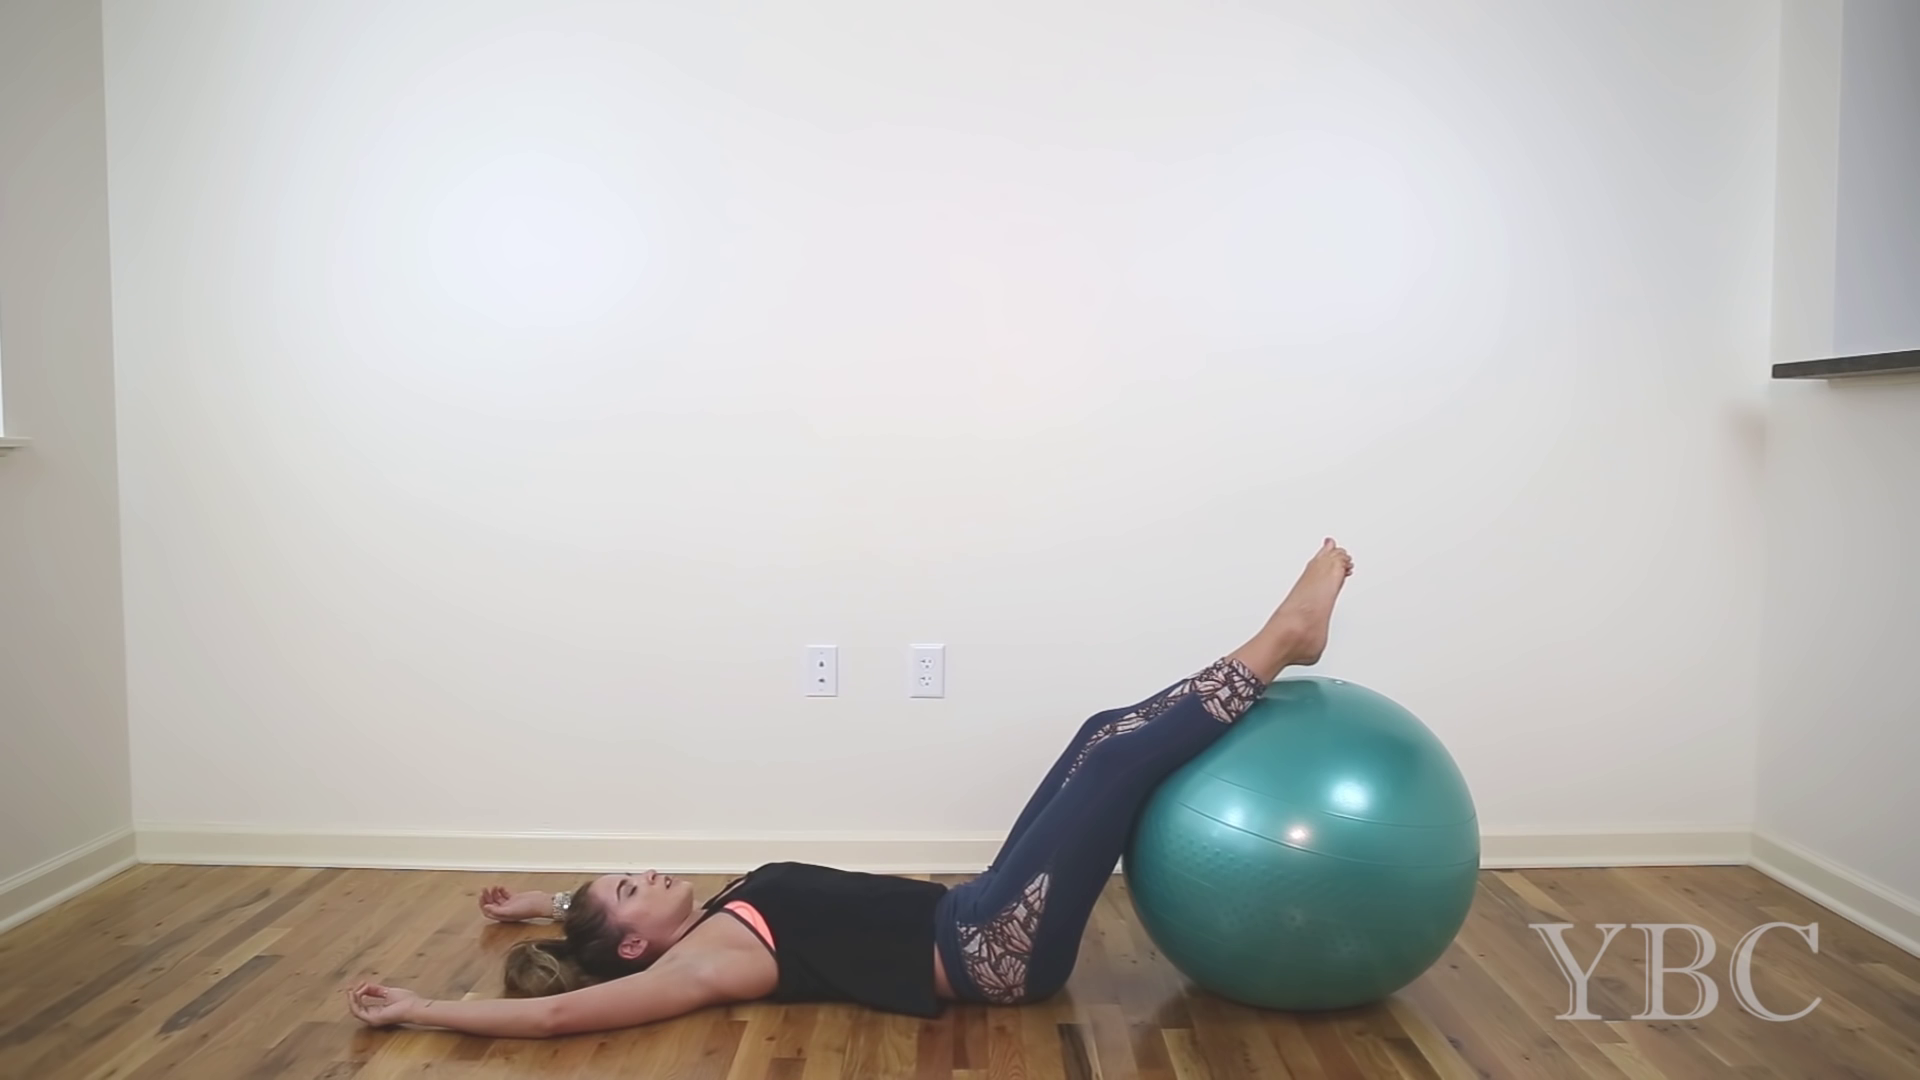yogaball: (1124, 670, 1491, 1027)
